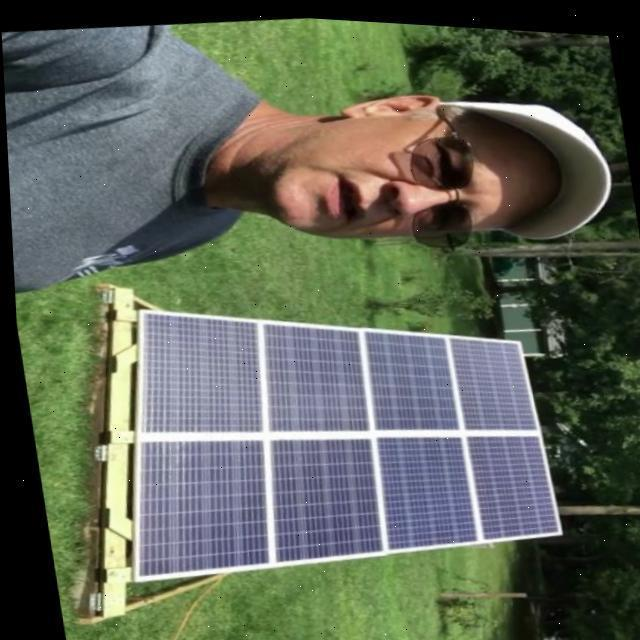Normal Solar Panel: (86, 268, 558, 604)
